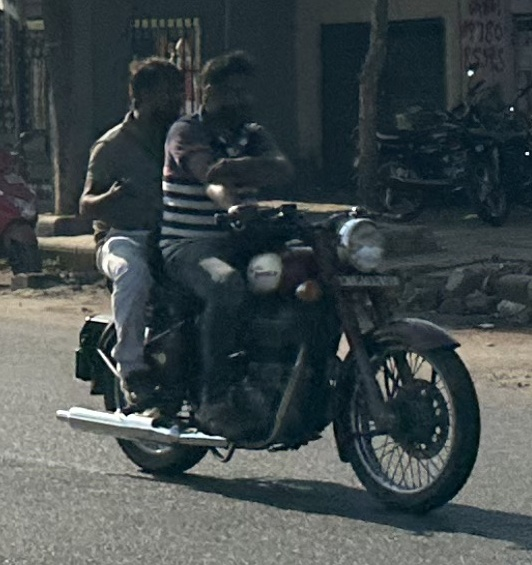BikeWithRider: (49, 37, 491, 520)
NoHelmet: (191, 43, 268, 127), (117, 52, 192, 134)
